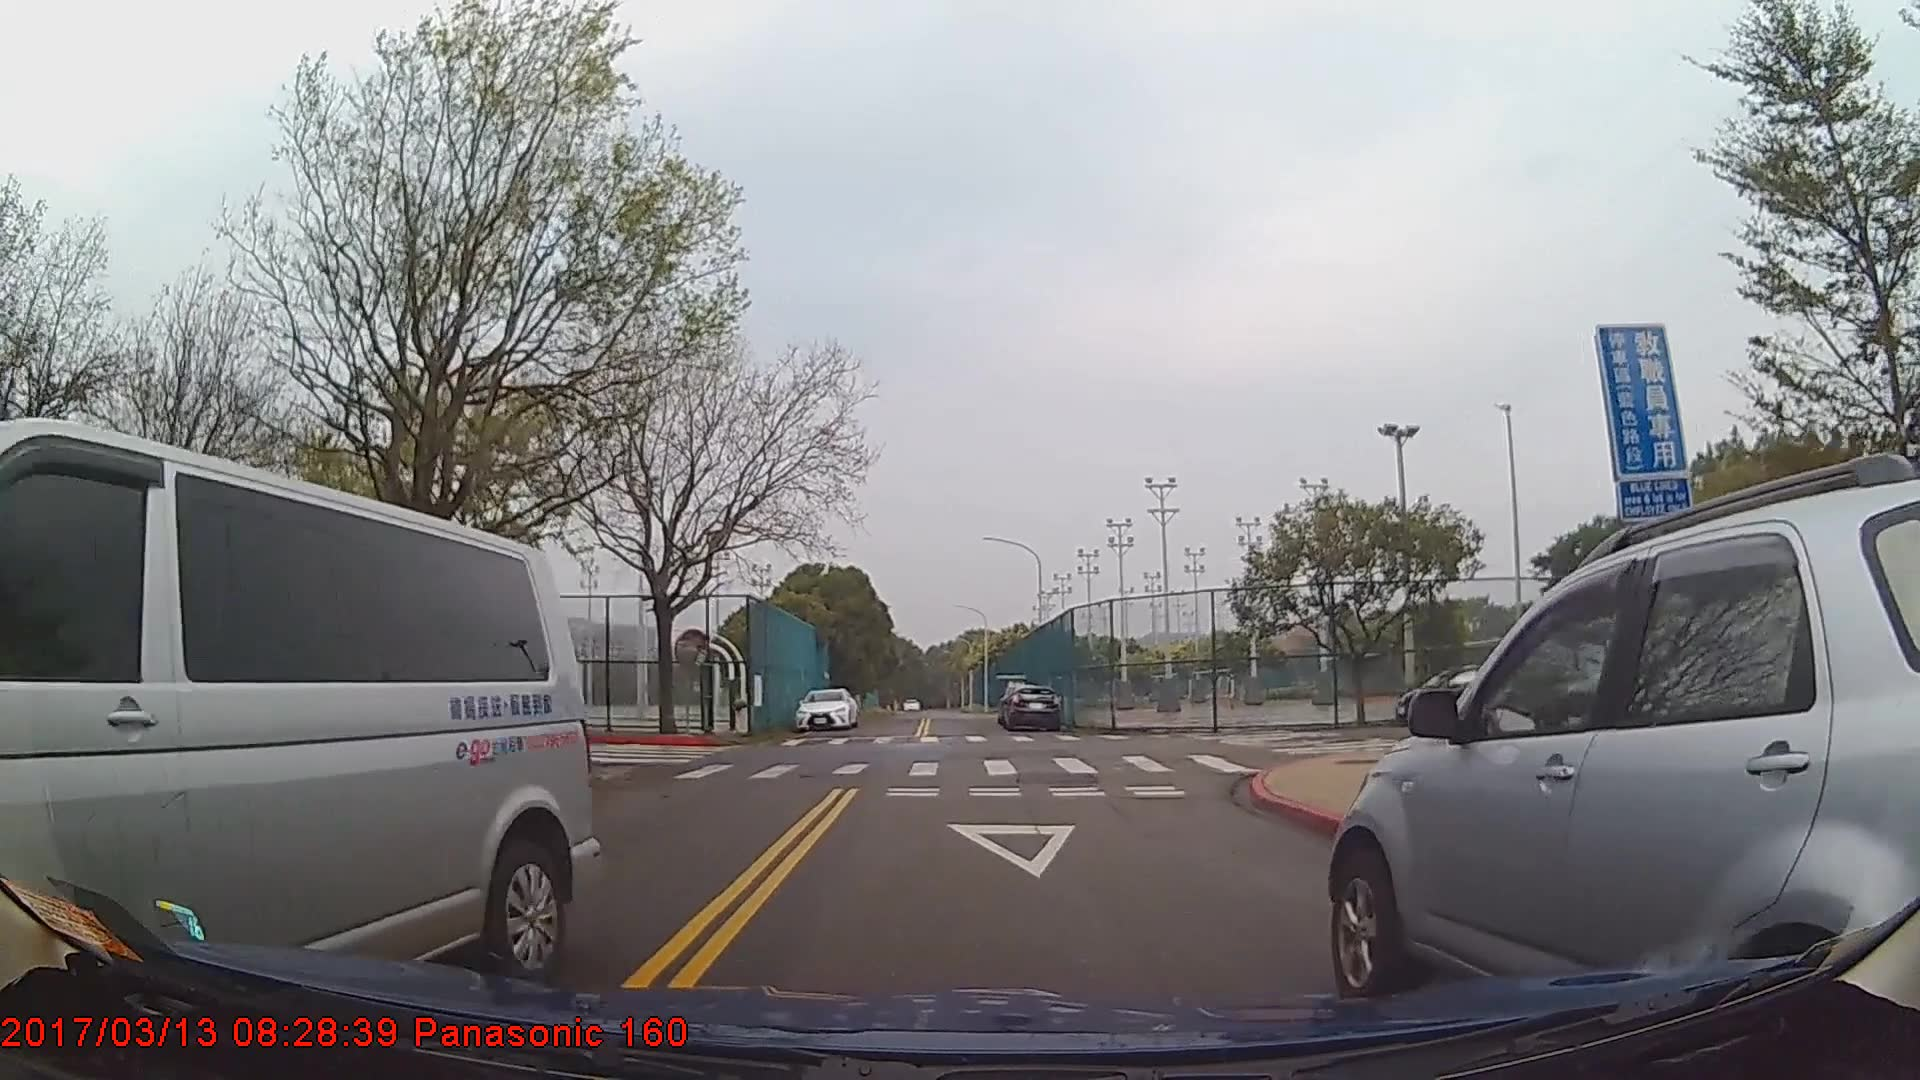vehicle: (0, 415, 600, 1011), (1327, 477, 1920, 1036), (1001, 680, 1062, 732), (793, 684, 858, 731)
